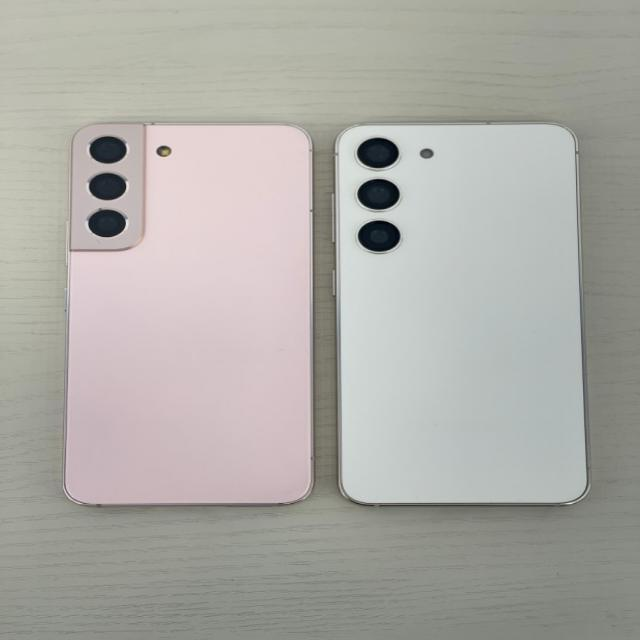phone: (336, 120, 592, 510), (69, 120, 318, 510)
